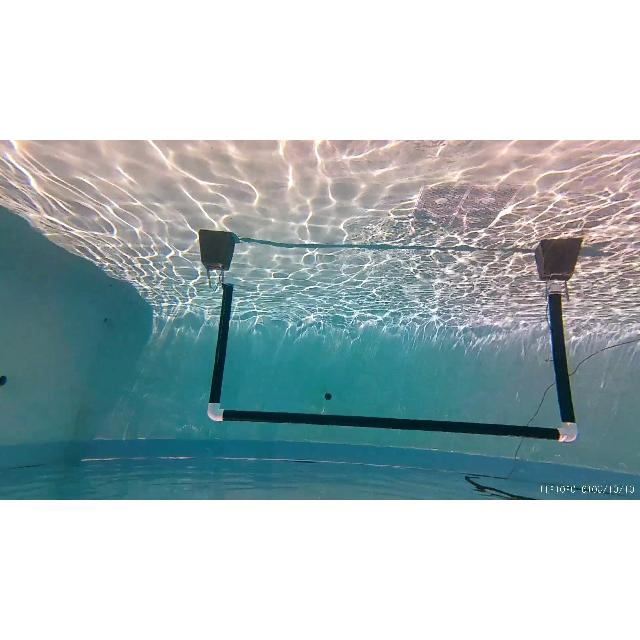prequal gate: (207, 276, 578, 442)
prequal gate leg l: (533, 238, 587, 447)
prequal gate leg r: (192, 224, 238, 422)
